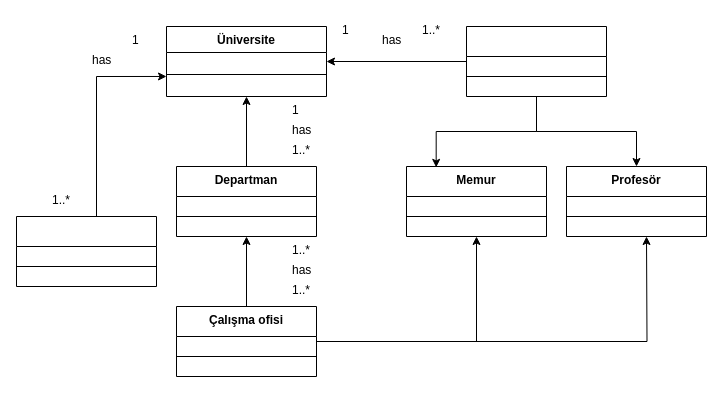
Image size: 723x393. Some labels were removed from this diagram. Each missing label, with the centre of its shape:
Sınıf: (86,251)
Çalışan: (536,61)
